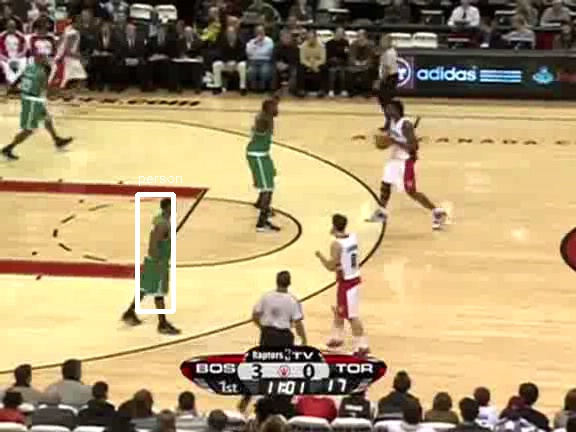person: (145, 216, 179, 297), (144, 216, 178, 297), (146, 216, 180, 297), (145, 215, 179, 296), (145, 217, 179, 298)
target_negative: (91, 196, 422, 272), (136, 178, 377, 280), (246, 148, 562, 211), (107, 54, 195, 259), (400, 224, 454, 400), (342, 361, 363, 366)
